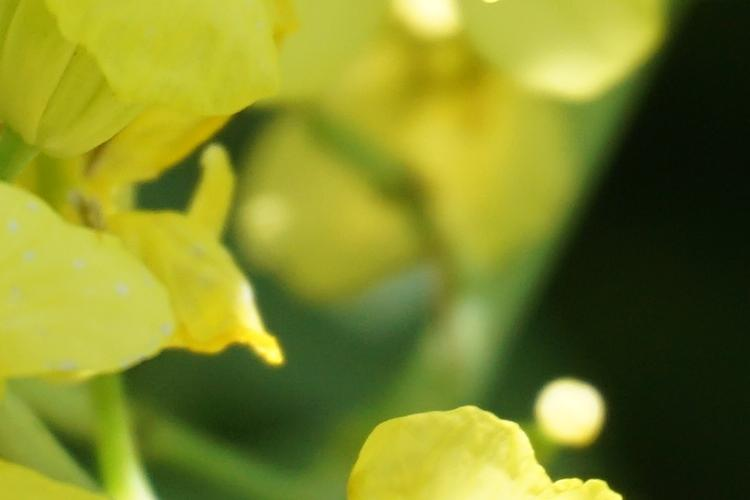yellow: (17, 20, 285, 388), (349, 383, 653, 500)
